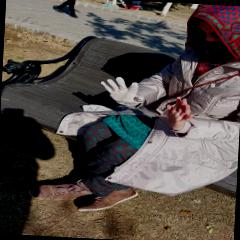gloved: (101, 77, 140, 105)
not-gloved: (162, 96, 194, 134)
